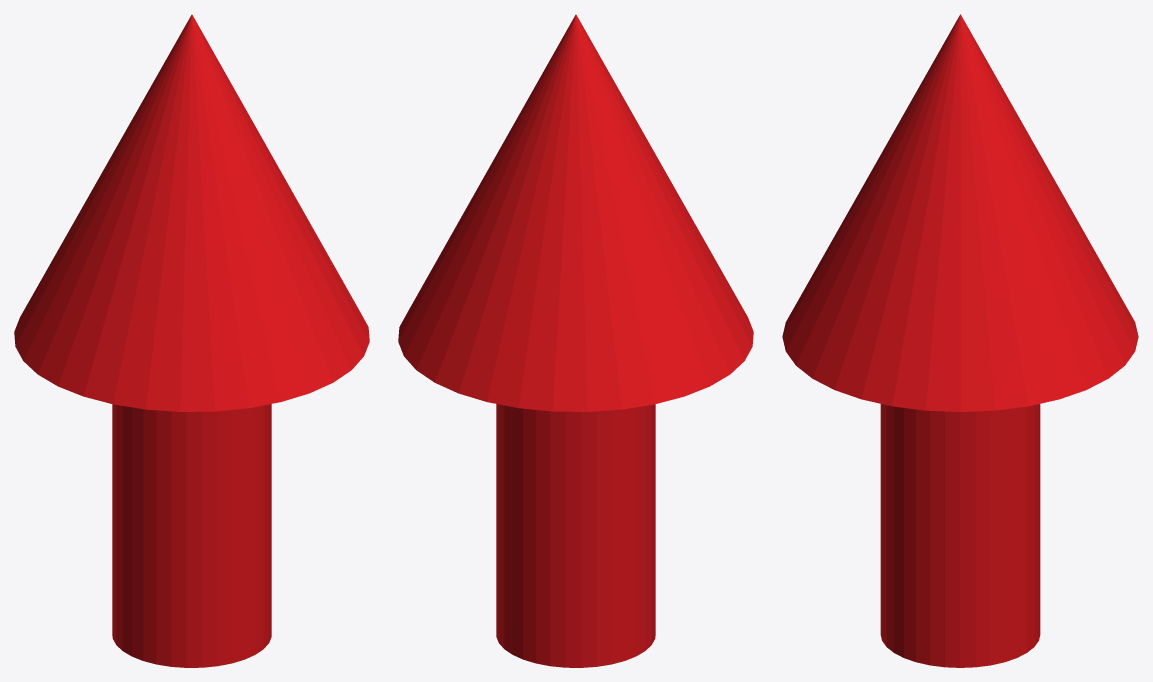
File: quickarrow2.fbx
3 views of the same model, side by side, from view 1: azimuth 30°, elevation 25°; view 2: azimuth 150°, elevation 25°; view 3: azimuth 270°, elevation 25° (orthographic).
Parts seen in each view (by area): view 1: Cone; view 2: Cone; view 3: Cone.
Part boxes in pixels (box(x1,y1,x2,y2)): Cone: box(14, 14, 369, 667); Cone: box(398, 14, 753, 667); Cone: box(782, 14, 1138, 667).
Bounding box in the file's own units: 200 × 384 × 200.
